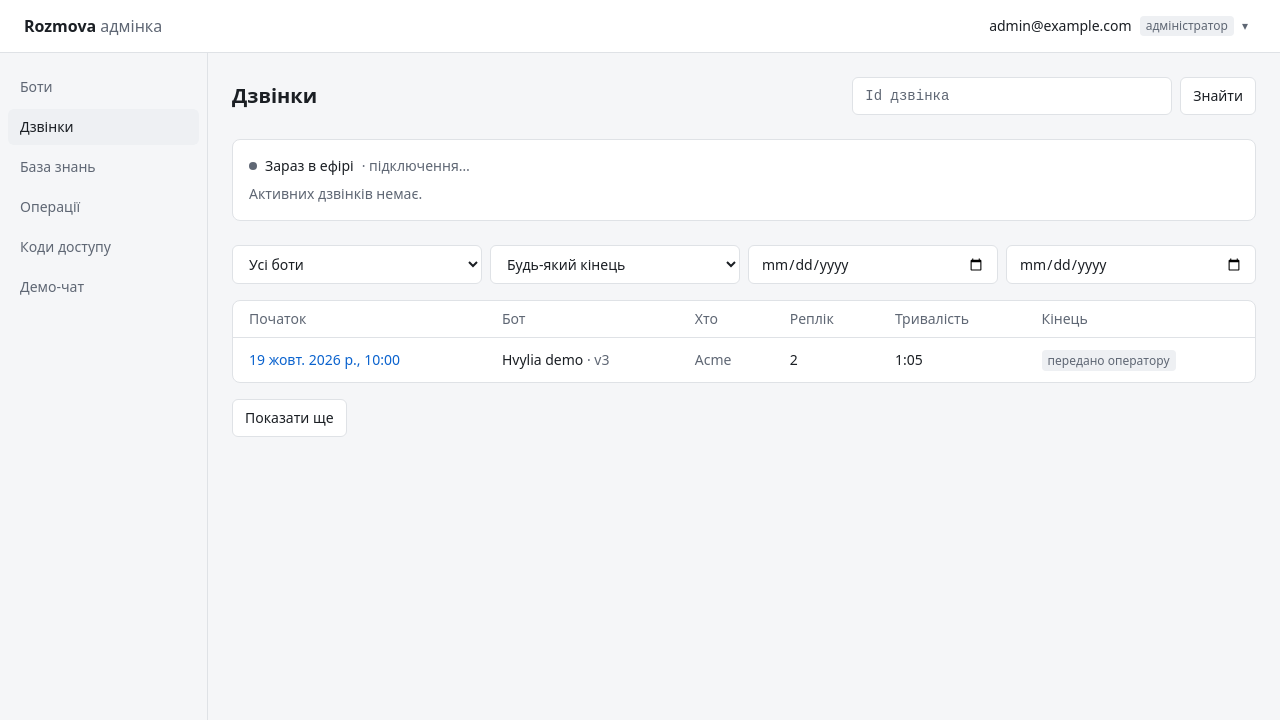
Test case: more pages load with the cursor
Expected: the row "Acme" is shown, x1=233 y1=338 x2=1255 y2=382
Click the button "Показати ще": (289, 418) x1=232 y1=399 x2=347 y2=437
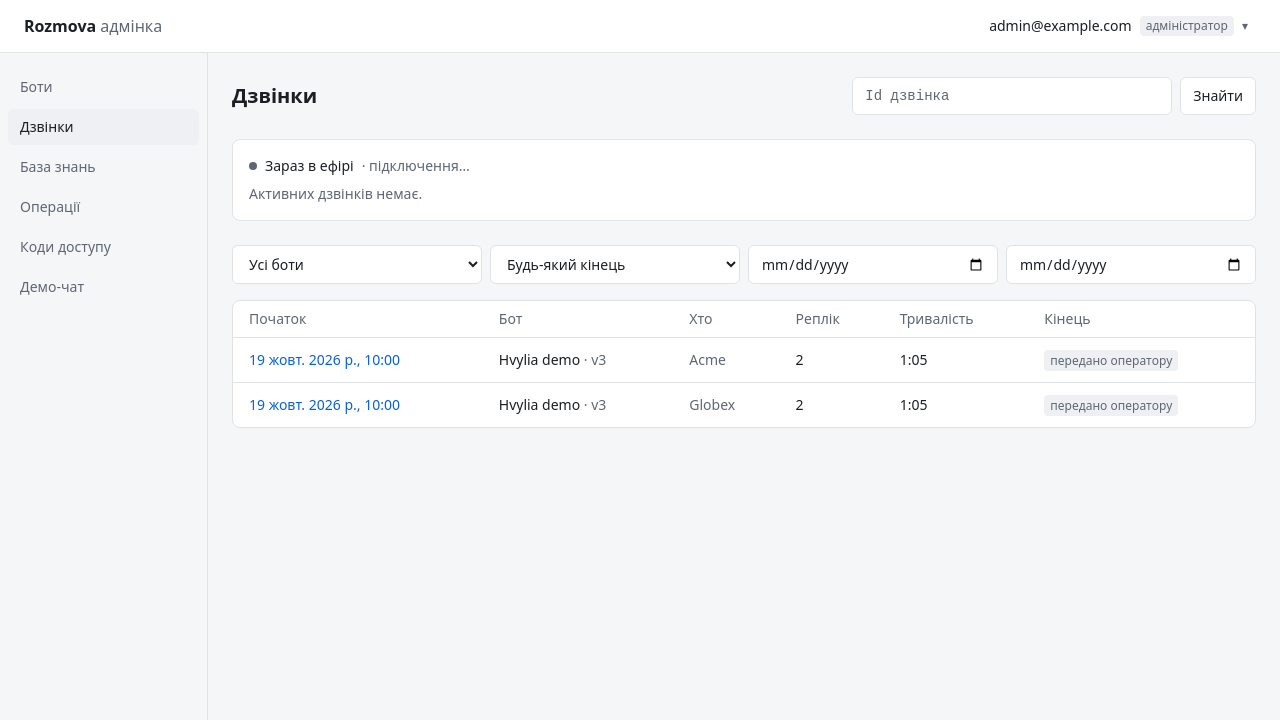
Now the row "Globex" is shown, box x1=233 y1=382 x2=1255 y2=427
Now the button "Показати ще" is gone
